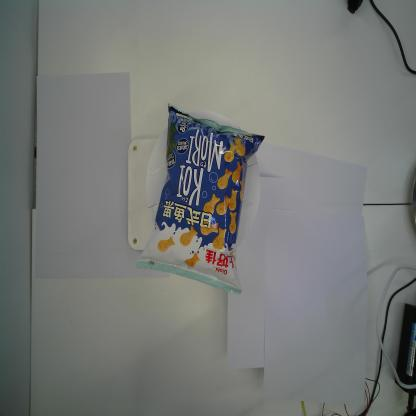Puffed Food: (134, 101, 265, 296)
